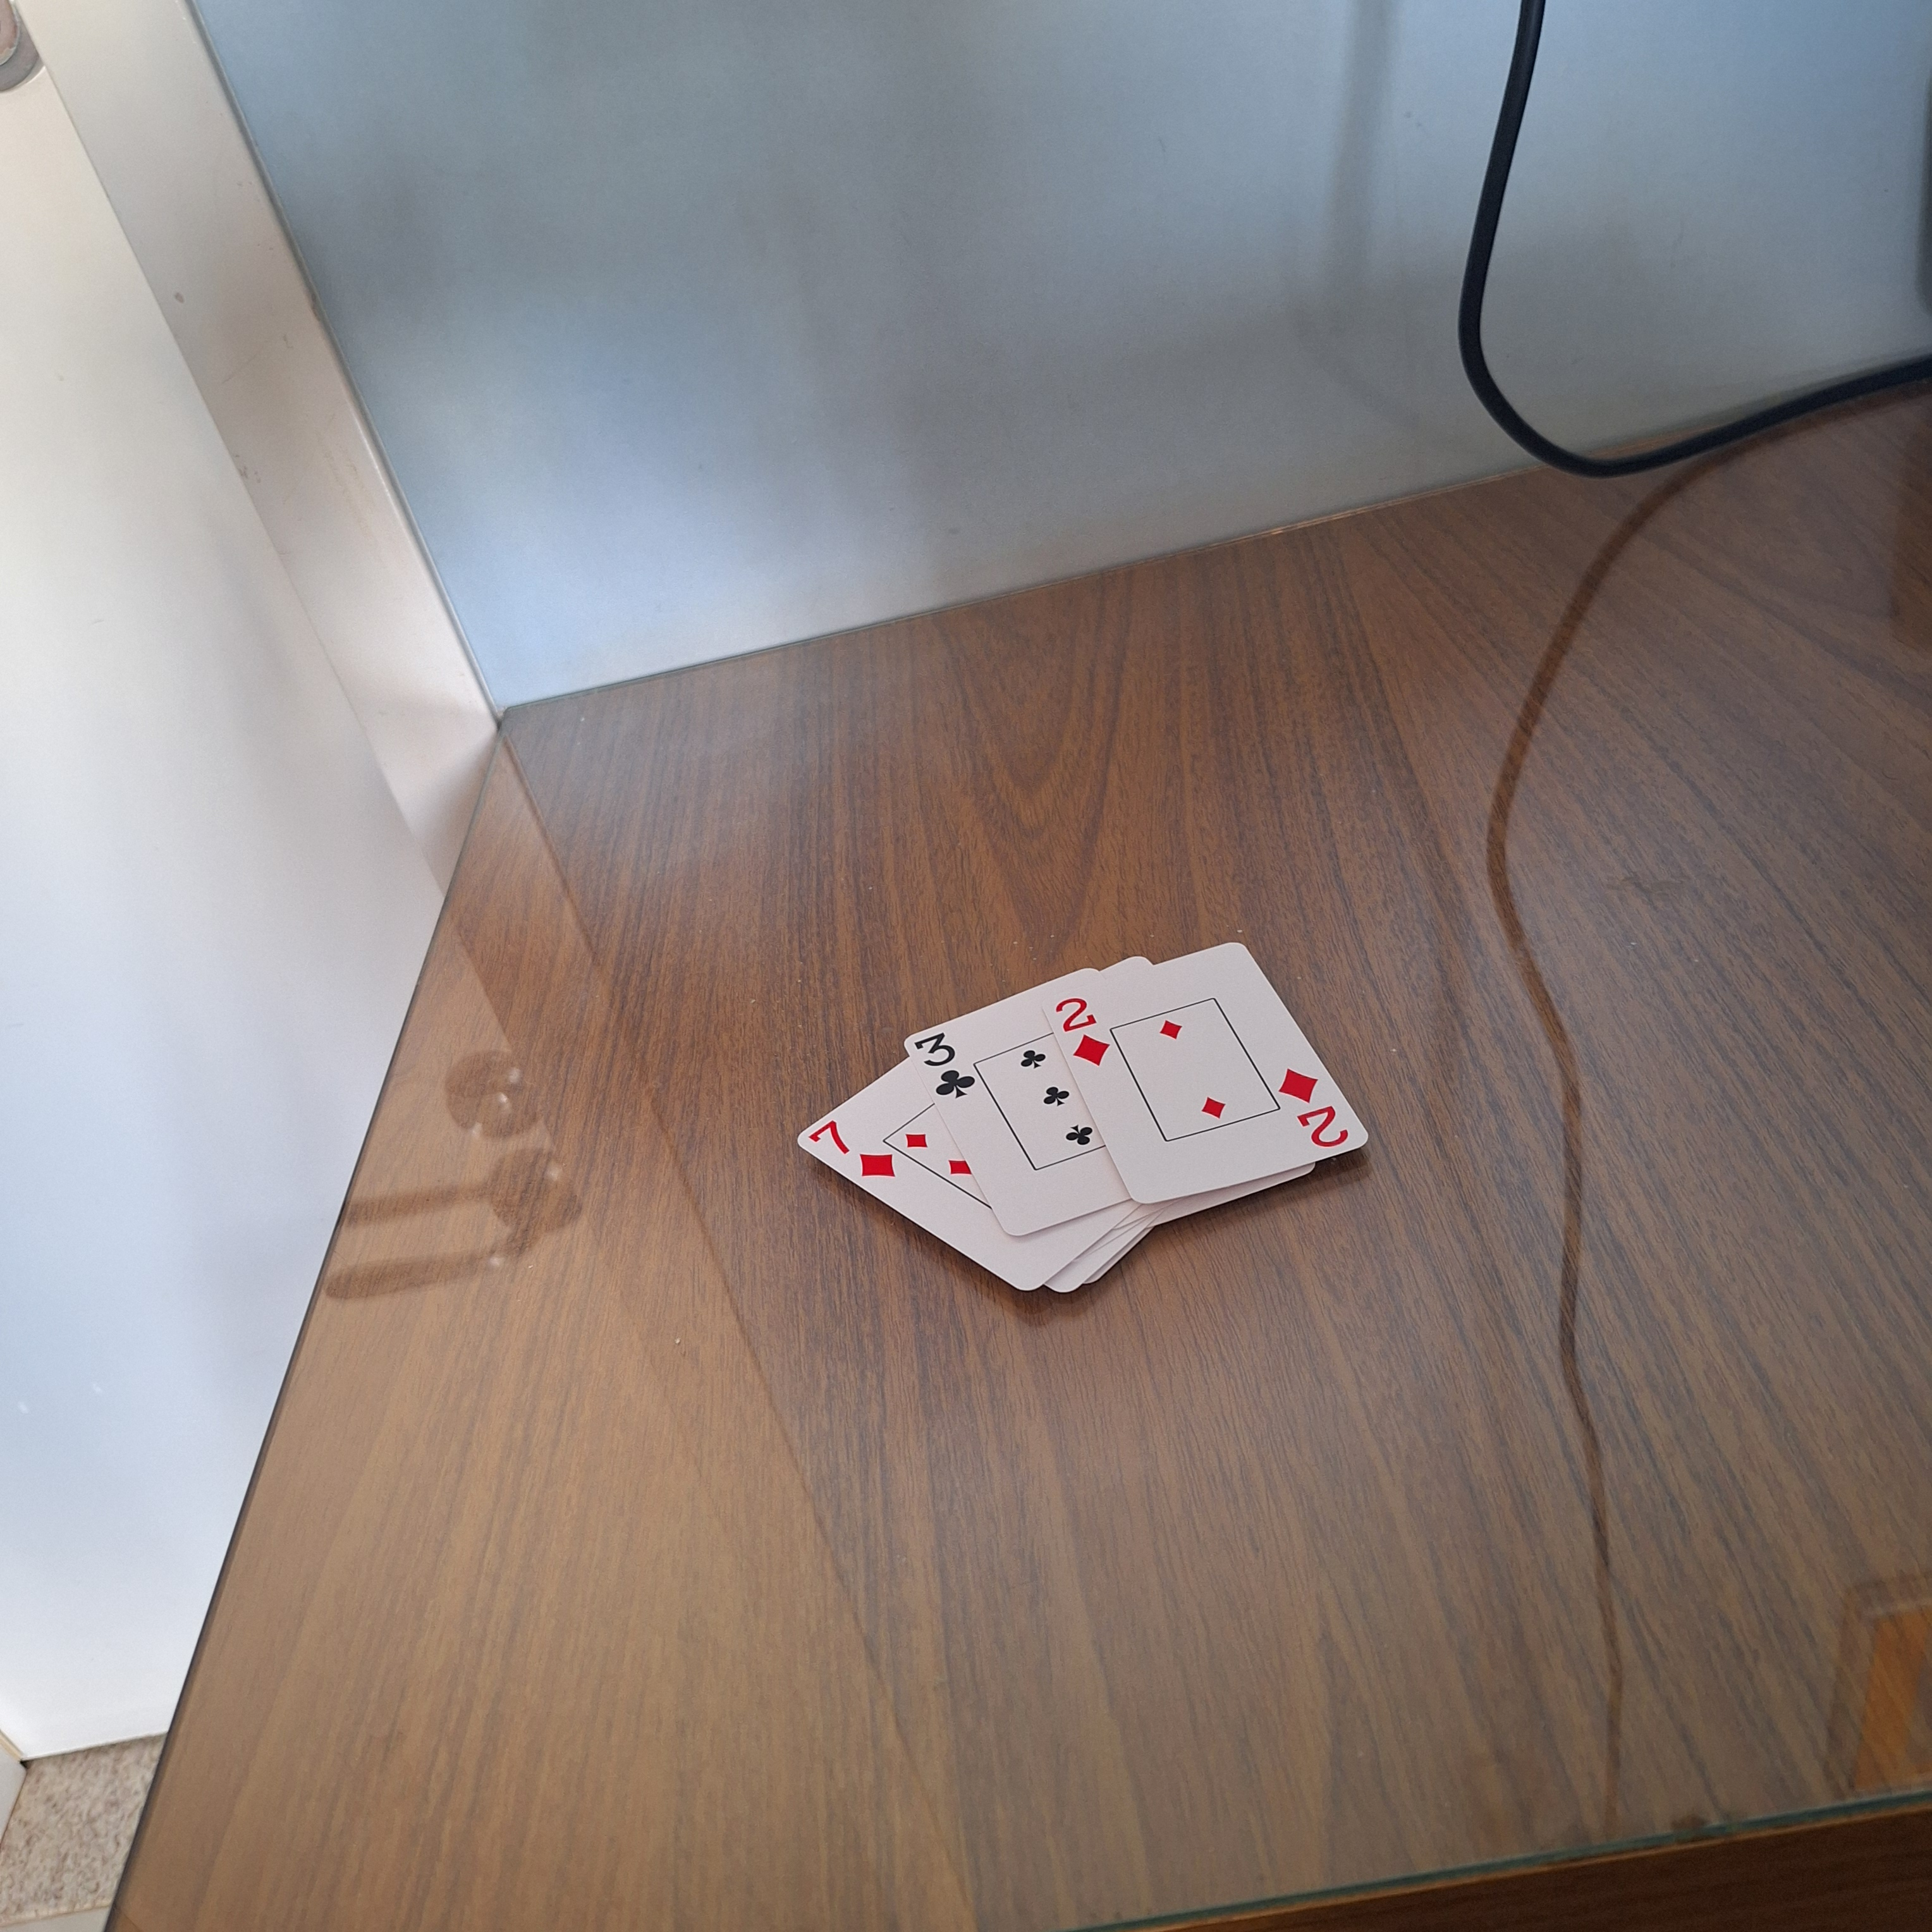2O: (1269, 1056, 1355, 1157), (1049, 993, 1115, 1072)
3P: (904, 1024, 982, 1102)
7O: (803, 1115, 901, 1191)
